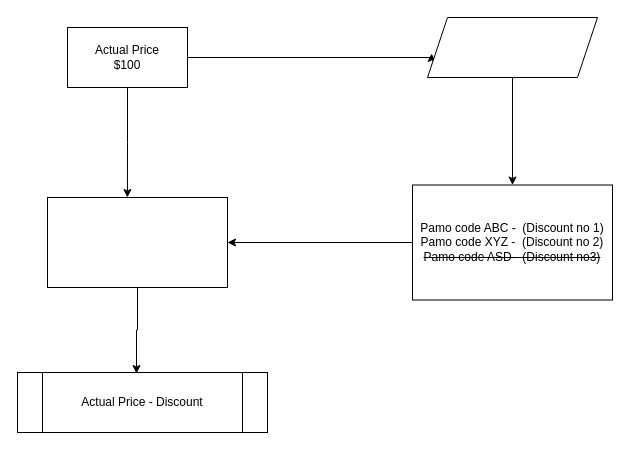
Some shapes in this 630 by 450 pixel diagram are drawn without their labels. Each missing label, with the centre of its shape:
"Discount 10% (Discount no 1) 15% (Discount no 2) $xx (Discount no3)" goes at (x=137, y=242).
"Enter Pramo Code" goes at (x=512, y=47).
